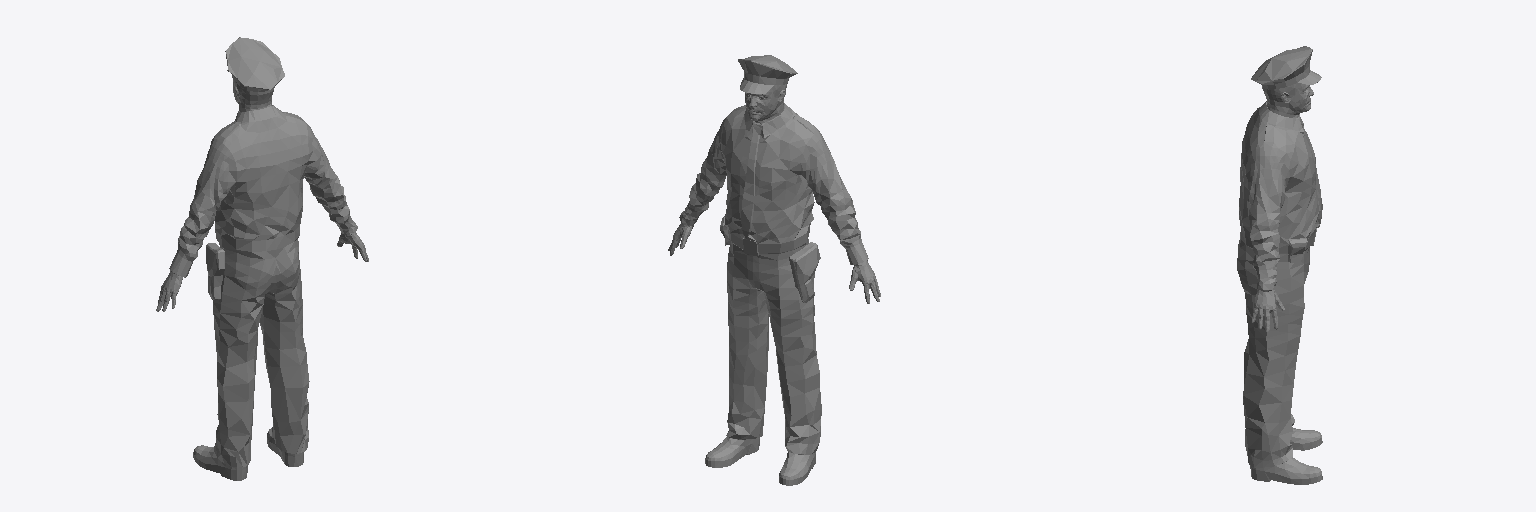
The model's file is p3dm.ru_Police_2.obj.
3 views of the same model, side by side, from view 1: azimuth 30°, elevation 25°; view 2: azimuth 150°, elevation 25°; view 3: azimuth 270°, elevation 25° (orthographic).
Parts seen in each view (by area): view 1: Mesh_0068, Mesh_0062, Mesh_0066; view 2: Mesh_0068, Mesh_0066, Mesh_0062; view 3: Mesh_0068, Mesh_0066, Mesh_0062.
Part boxes in pixels (bbox=[...]): Mesh_0068: bbox=[169, 105, 357, 480]; Mesh_0062: bbox=[225, 37, 284, 91]; Mesh_0066: bbox=[156, 75, 368, 311]; Mesh_0068: bbox=[679, 103, 868, 485]; Mesh_0066: bbox=[668, 84, 880, 303]; Mesh_0062: bbox=[738, 55, 797, 94]; Mesh_0068: bbox=[1237, 101, 1322, 484]; Mesh_0066: bbox=[1251, 83, 1313, 331]; Mesh_0062: bbox=[1251, 46, 1321, 89].
Size of the model in its own units: 1028 by 1923 by 360.